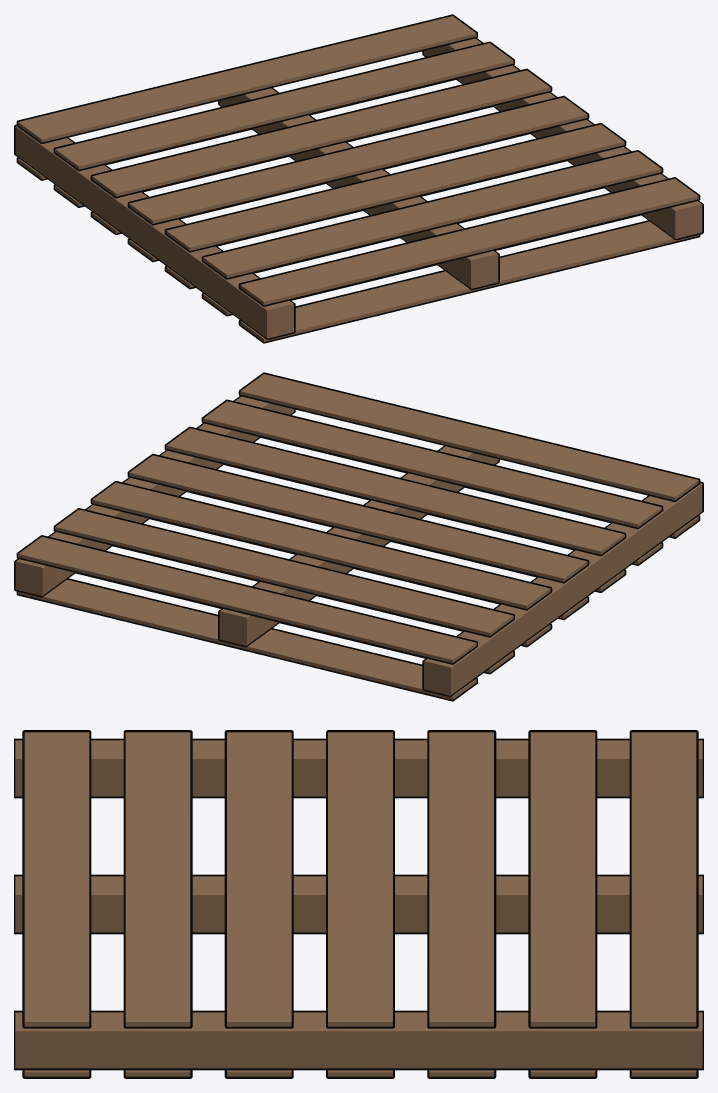
Rendered from Estiva.fbx.
The picture shows the model from 3 angles, top to bottom: view 1: azimuth 30°, elevation 25°; view 2: azimuth 150°, elevation 25°; view 3: azimuth 270°, elevation 25°; orthographic projection. The views are drawn at different scales.
Visible parts, largest first — view 1: Symmetry_1; view 2: Symmetry_1; view 3: Symmetry_1.
Part boxes in pixels (<box>): Symmetry_1: <box>14,14,703,343</box>; Symmetry_1: <box>14,372,703,701</box>; Symmetry_1: <box>14,730,703,1078</box>.
Bounding box in the file's own units: 182 × 17.06 × 182.
